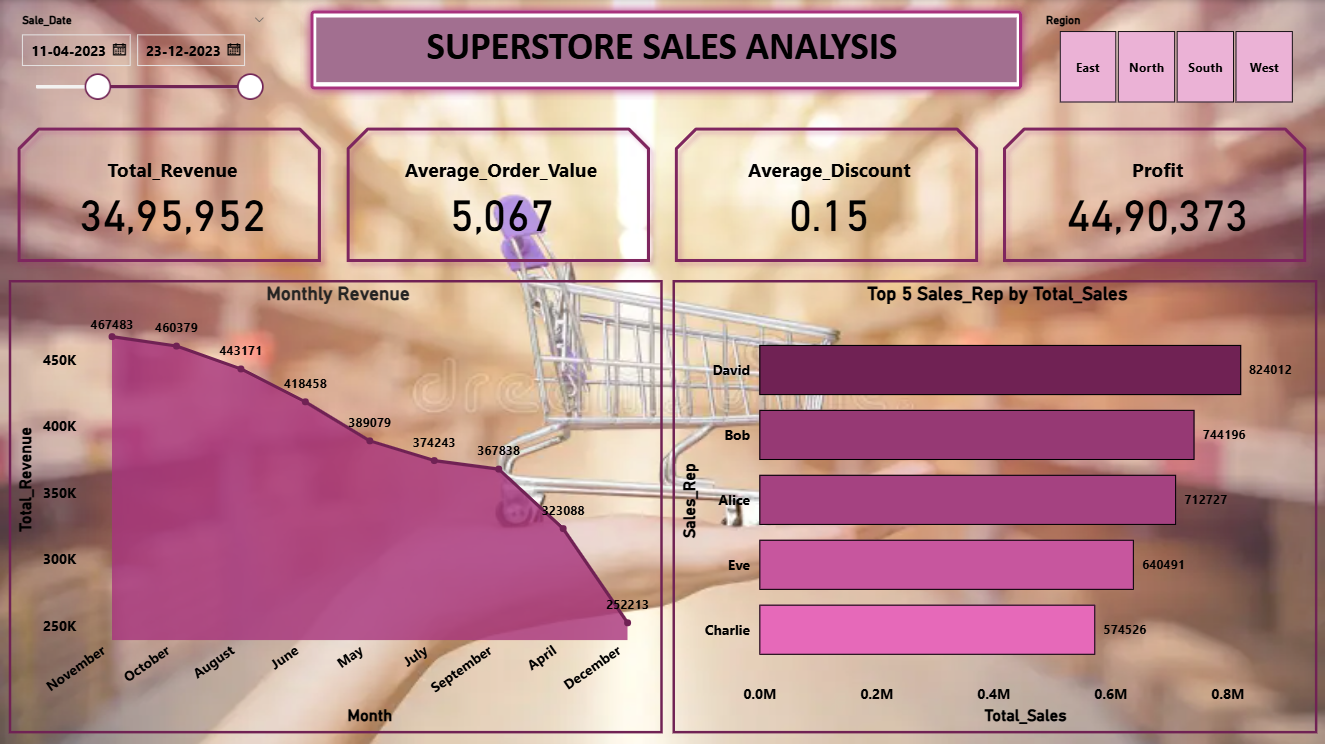

The dashboard page shown, as its layout file describes it:
{"tool":"powerbi","page":{"name":"Page 1","canvas":[1280,720],"ordinal":0},"visuals":[{"type":"cardVisual","fields":{"Data":["sales.Total_Revenue","sales.Average_Order_Value","sales.Average_Discount","sales.Profit"]},"box":[0,106.2,1280,164.1],"z":0},{"type":"shape","box":[289.5,0,707,96.5],"z":1000},{"type":"textbox","box":[305.2,16.9,675.6,62.7],"z":2000},{"type":"lineChart","title":"Monthly Revenue","fields":{"Y":["sales.Total_Revenue"],"Category":["sales.month"]},"box":[8.4,270.2,631,437.9],"z":3000},{"type":"slicer","fields":{"Values":["sales.Sale_Date"]},"box":[8.4,8.4,259.4,97.7],"z":4000},{"type":"barChart","title":"Top 5 Sales_Rep by Total_Sales","fields":{"Y":["sales.Total_Revenue"],"Category":["sales.Sales_Rep"]},"box":[649.1,270.2,622.5,437.9],"z":5000},{"type":"slicer","fields":{"Values":["sales.Region"]},"box":[996.5,8.4,275.1,97.7],"z":6000}]}

Visuals, with their boxes in screenshot pixels (x1, y1, x2, y2), scaled from the page's 1280x720 canvas onto the 1325x744 screenshot:
cardVisual - sales.Total_Revenue x sales.Average_Order_Value: 0, 110, 1324, 279
shape: 300, 0, 1032, 100
textbox: 316, 17, 1015, 82
"Monthly Revenue" lineChart: 9, 279, 662, 732
slicer - sales.Sale_Date: 9, 9, 277, 110
"Top 5 Sales_Rep by Total_Sales" barChart: 672, 279, 1316, 732
slicer - sales.Region: 1032, 9, 1316, 110
